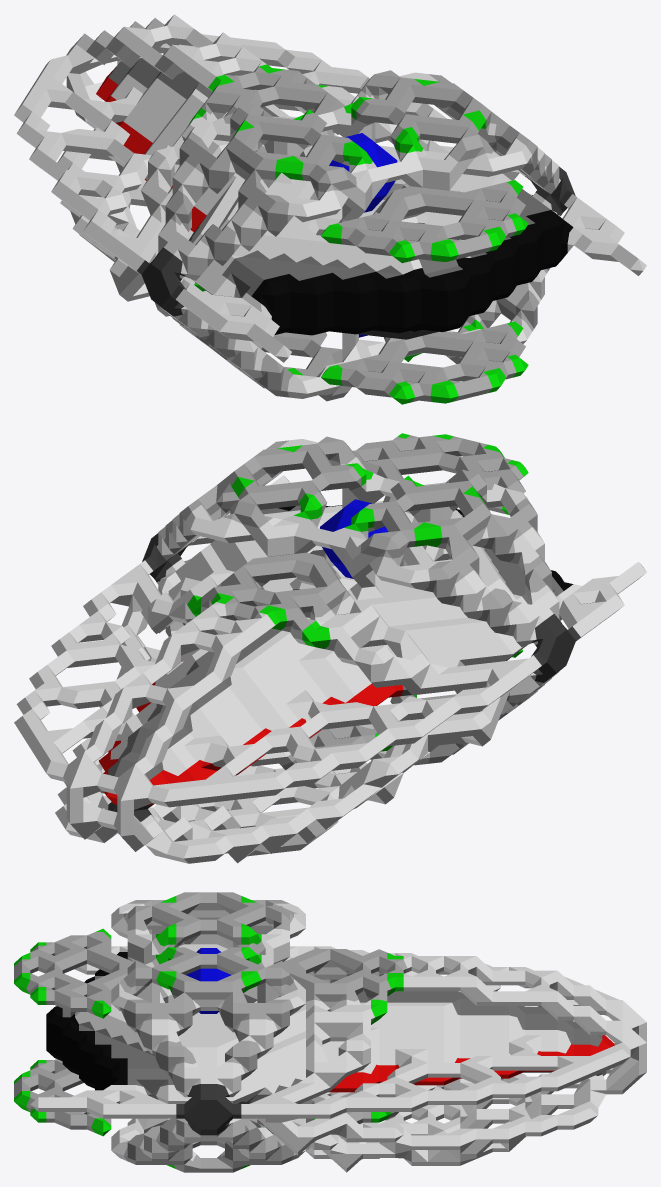
Rendered from ship_auron_cruiser_light.fbx.
3 views of the same model, one above another, from view 1: azimuth 30°, elevation 25°; view 2: azimuth 150°, elevation 25°; view 3: azimuth 270°, elevation 25° (orthographic). The views are drawn at different scales.
Parts seen in each view (by area): view 1: ship_auron_cruiser_light; view 2: ship_auron_cruiser_light; view 3: ship_auron_cruiser_light.
Boxes of the visible parts, <box> form: ship_auron_cruiser_light: <box>14,14,646,404</box>; ship_auron_cruiser_light: <box>14,433,646,863</box>; ship_auron_cruiser_light: <box>14,892,646,1172</box>.
Bounding box in the file's own units: 2400 × 1300 × 3900.
